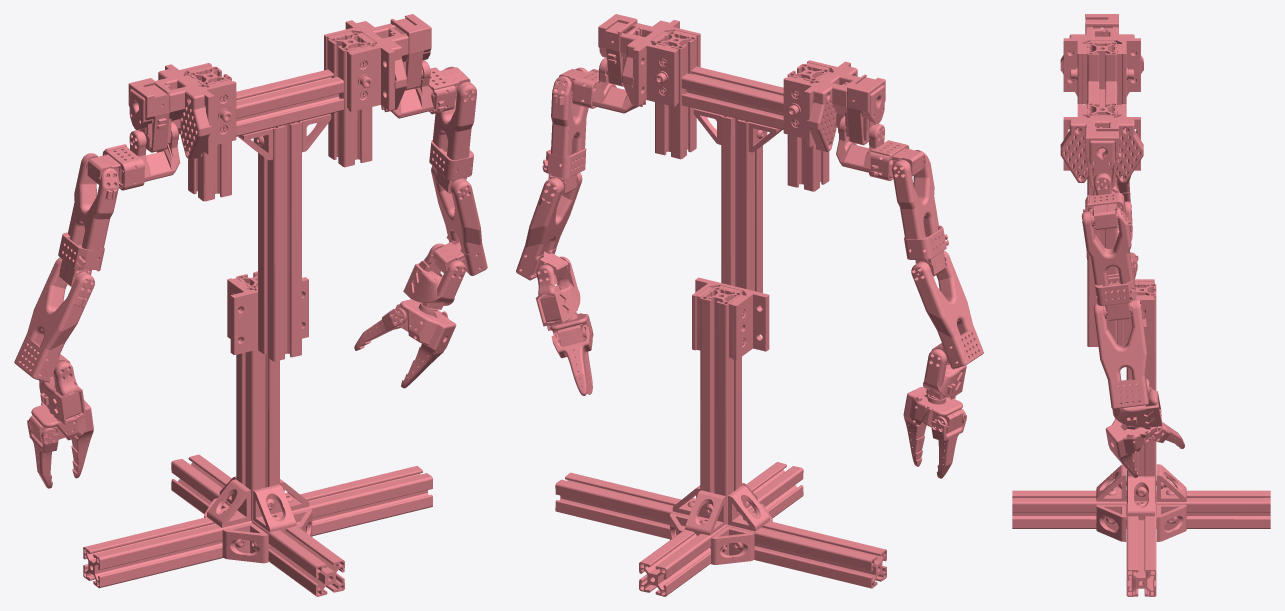
File: So-101 arms.glb
3 renders of one model, left to right at view 1: azimuth 30°, elevation 25°; view 2: azimuth 150°, elevation 25°; view 3: azimuth 270°, elevation 25°, orthographic. The views are drawn at different scales.
Parts seen in each view (by area): view 1: Assem_02_-_Copy_-_SO101_mated-8_Wrist_Roll_Pitch_SO100-4-1; view 2: Assem_02_-_Copy_-_SO101_mated-8_Wrist_Roll_Pitch_SO100-4-1; view 3: Assem_02_-_Copy_-_SO101_mated-8_Wrist_Roll_Pitch_SO100-4-1.
Boxes of the visible parts, x1,y1,x2,y2 form: Assem_02_-_Copy_-_SO101_mated-8_Wrist_Roll_Pitch_SO100-4-1: (14,14,487,596); Assem_02_-_Copy_-_SO101_mated-8_Wrist_Roll_Pitch_SO100-4-1: (516,14,983,596); Assem_02_-_Copy_-_SO101_mated-8_Wrist_Roll_Pitch_SO100-4-1: (1012,14,1270,596).
Size of the model in its own units: 639 by 660 by 344.
